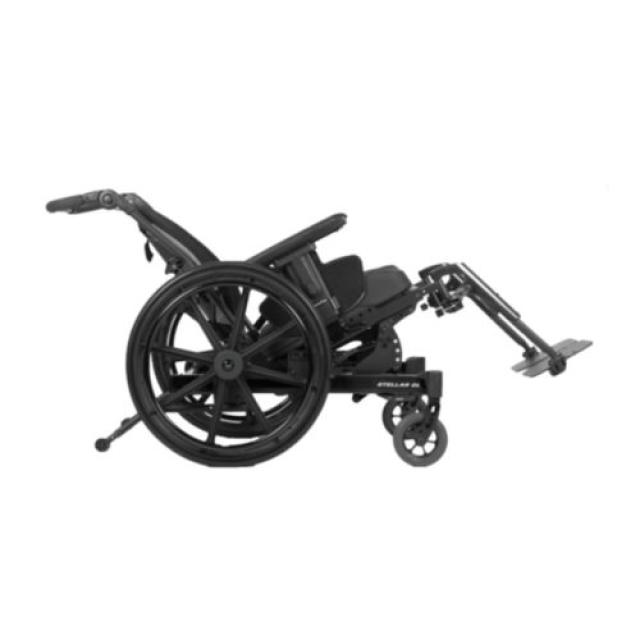wheelchairs: (36, 170, 598, 490)
